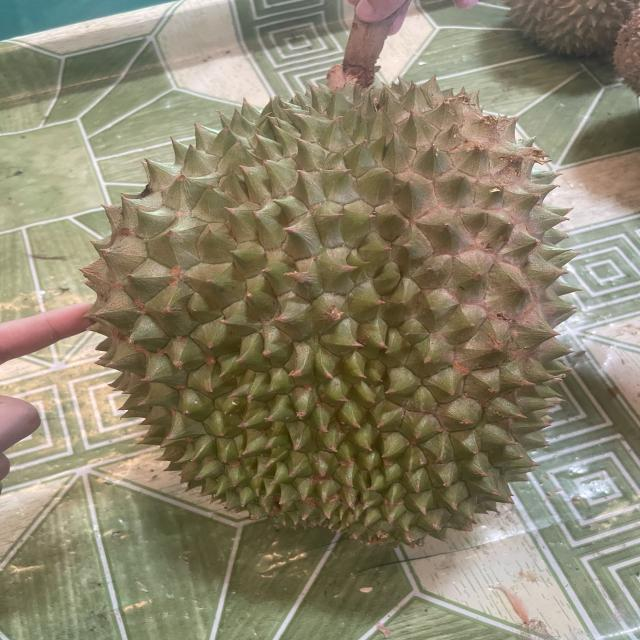mature: (45, 73, 606, 548)
